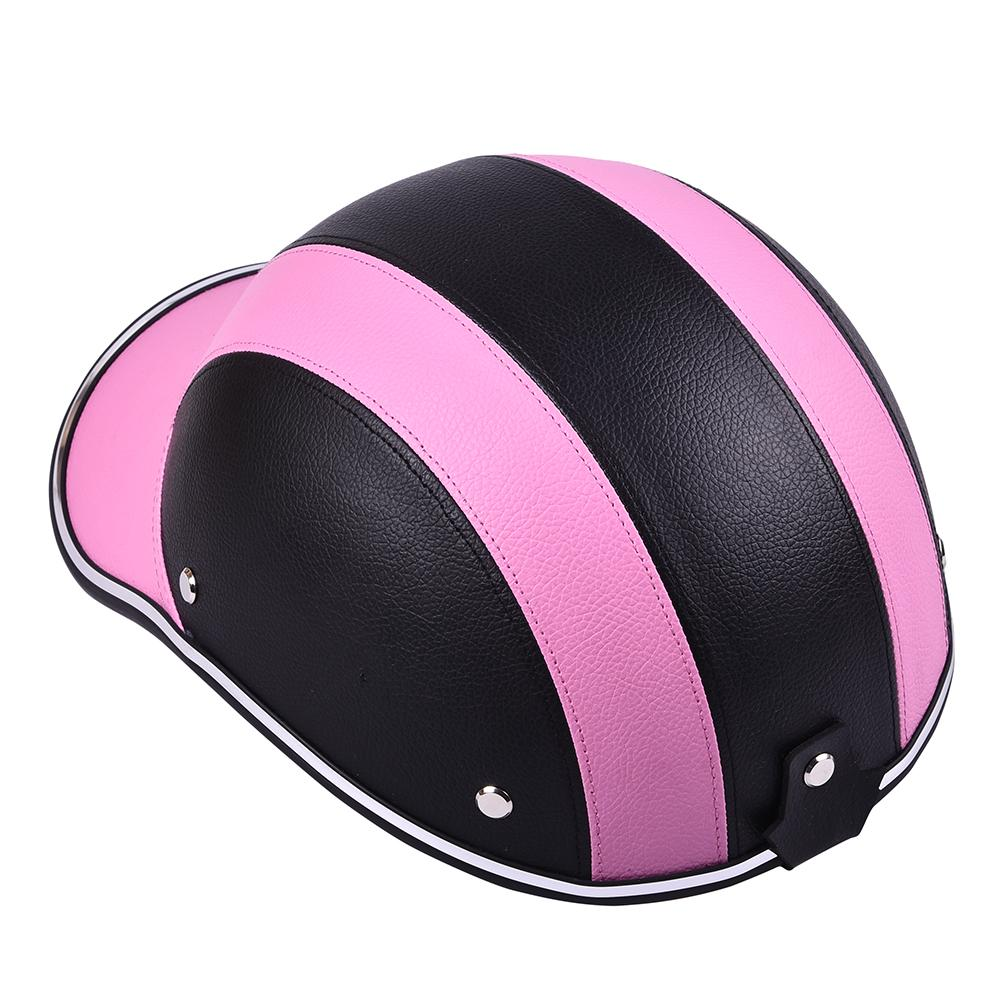Helmet: (36, 129, 975, 917)
